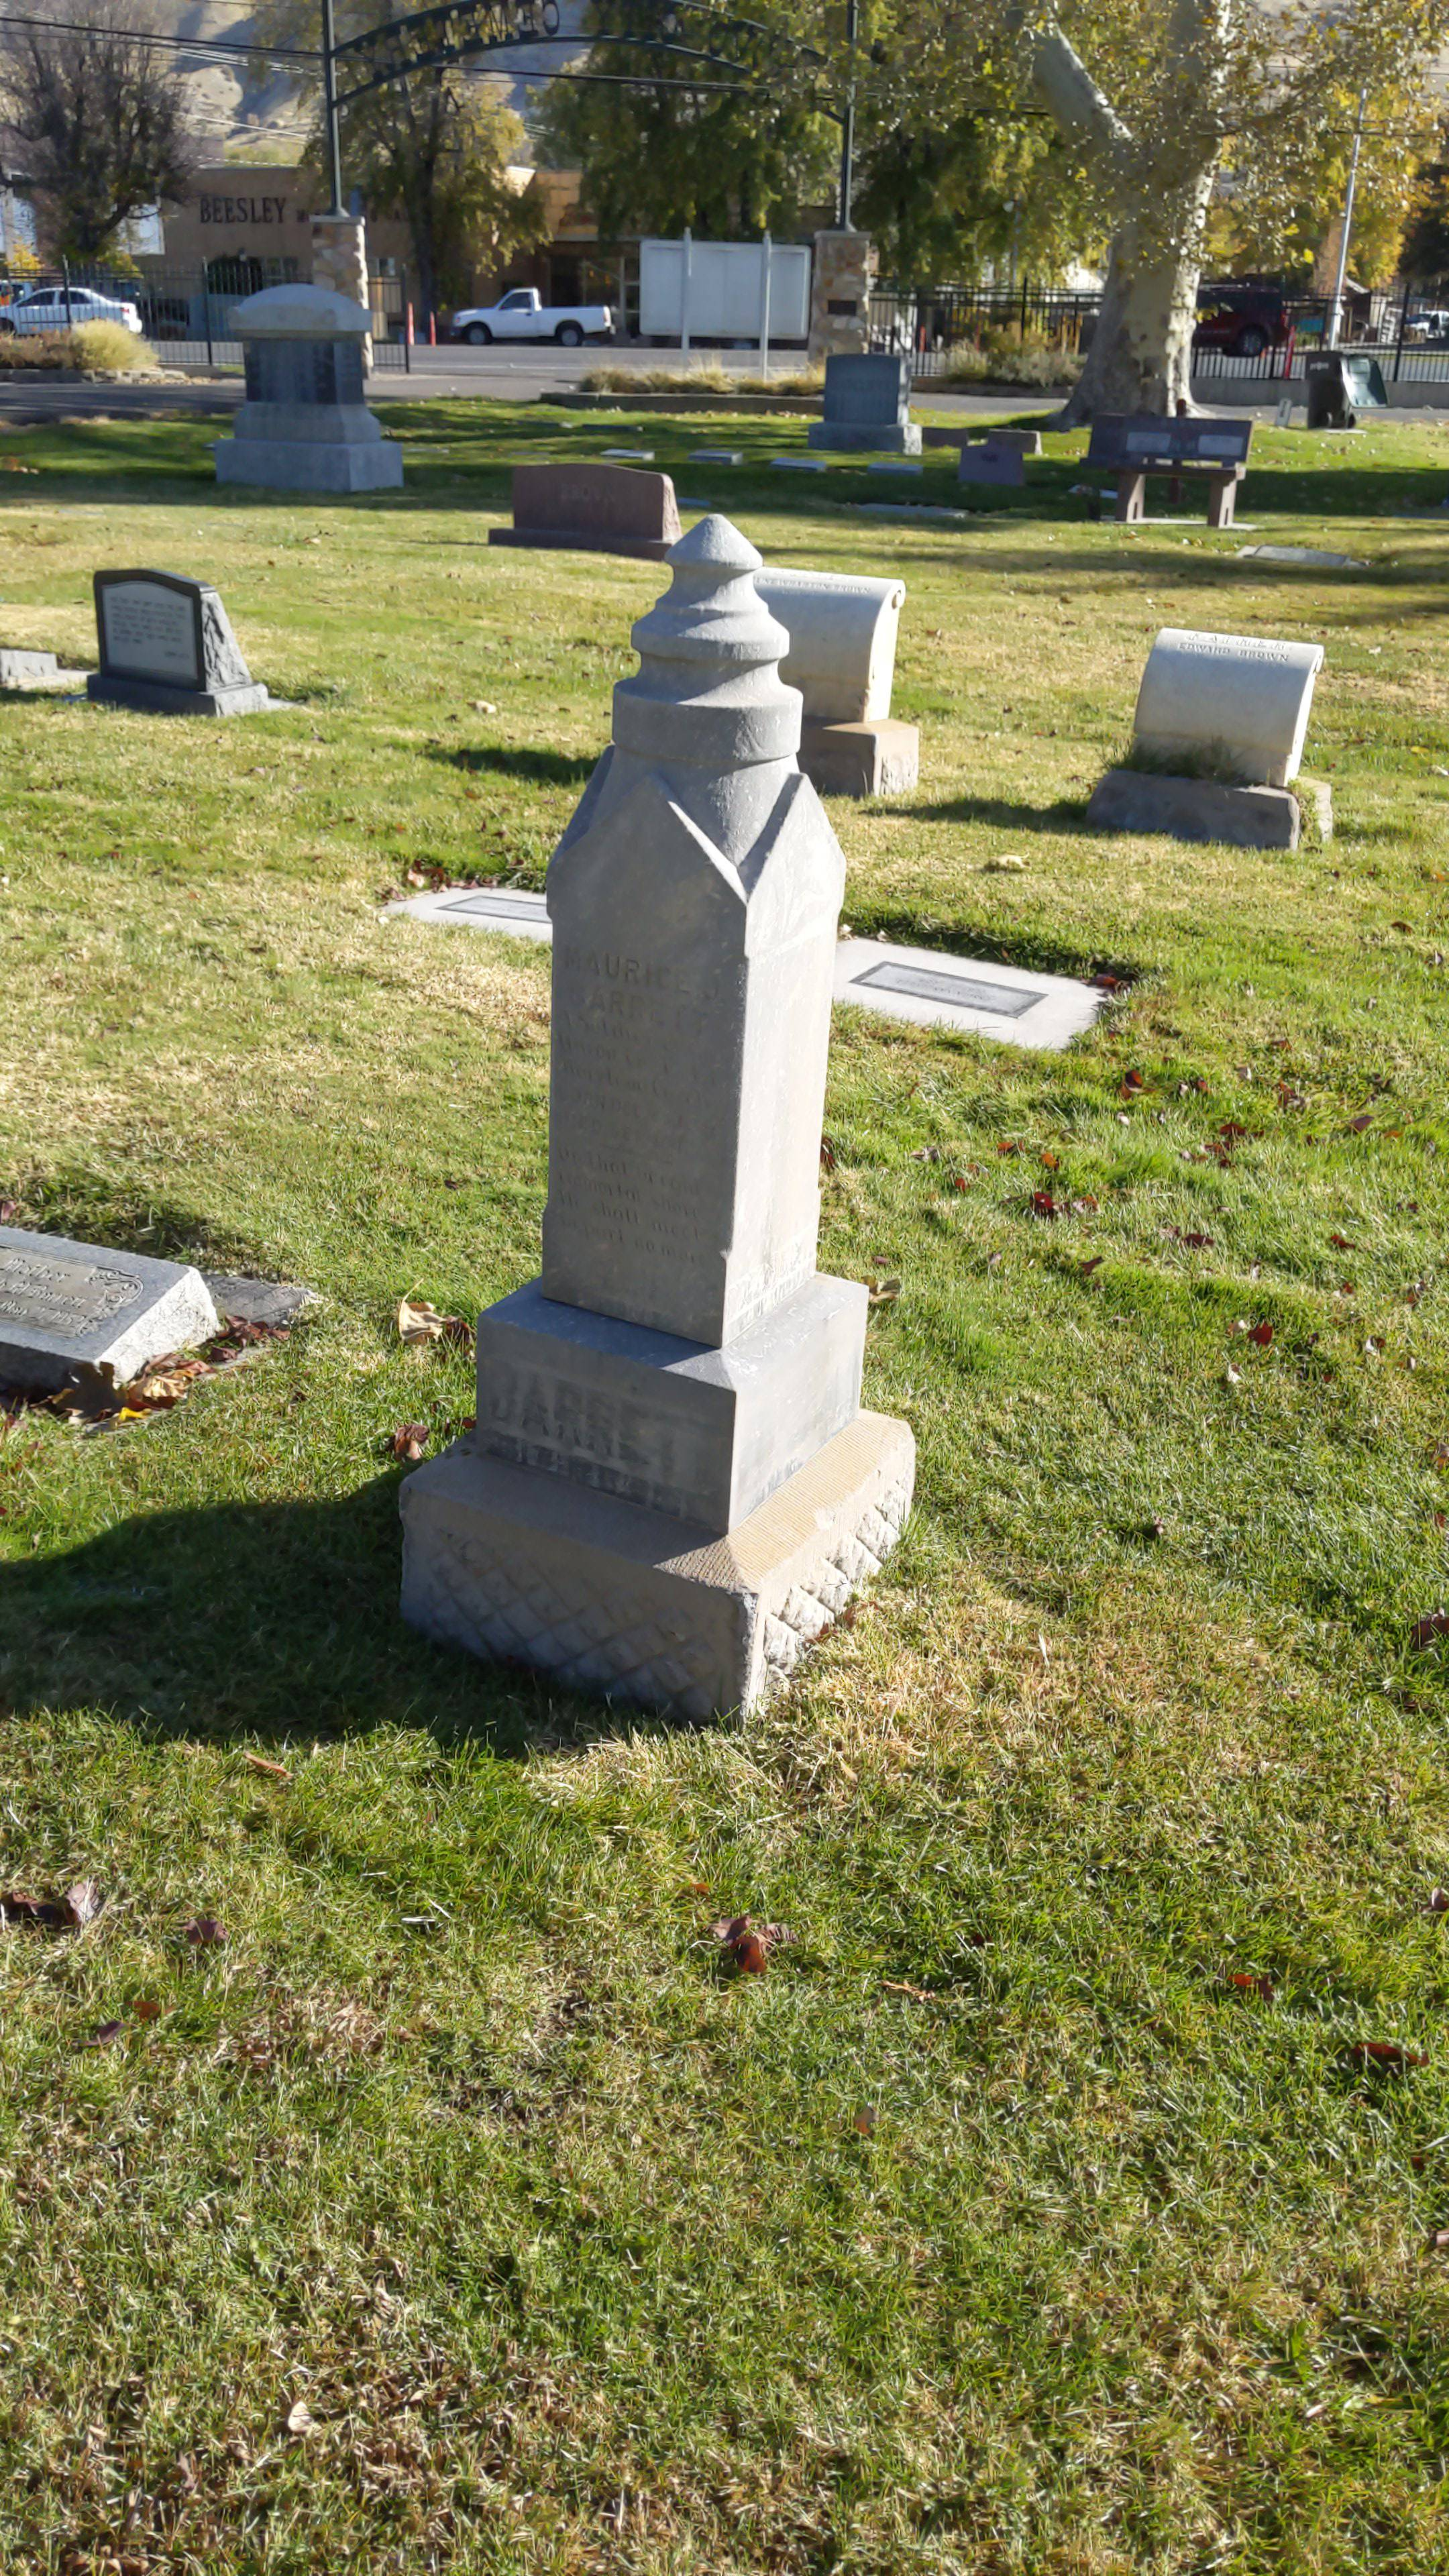obelisk: (481, 513, 867, 1543)
